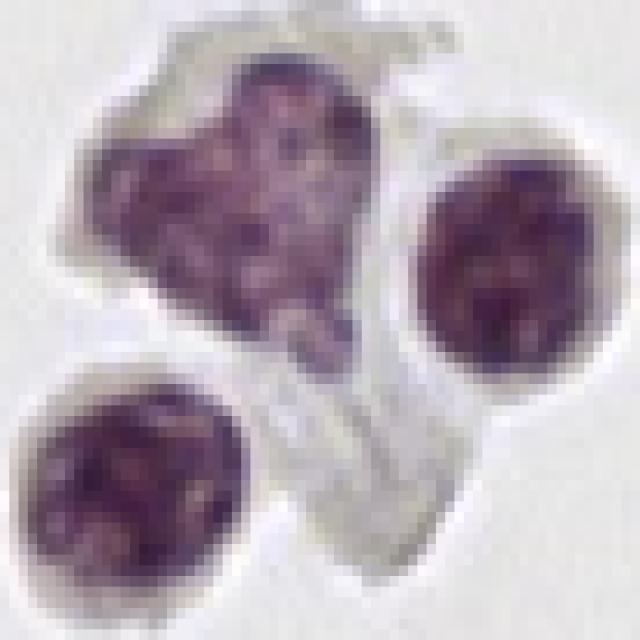cytoplasm: (0, 344, 283, 632)
nucleus: (0, 360, 281, 618), (420, 150, 594, 372)
